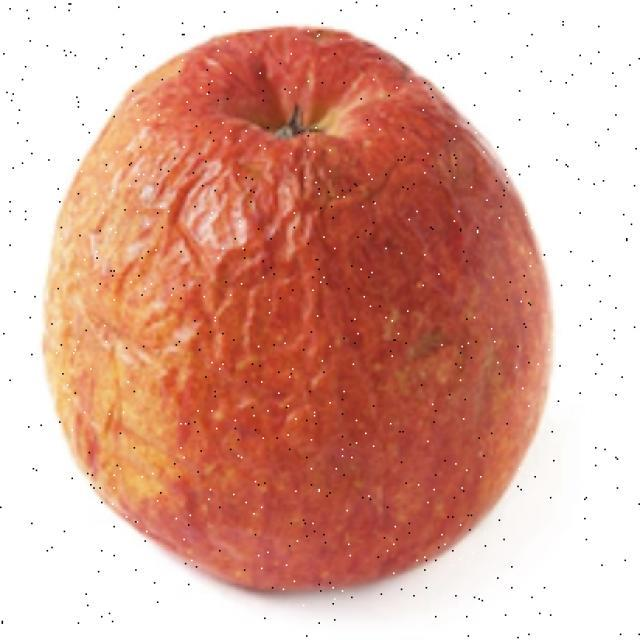Rotten: (56, 37, 546, 568)
